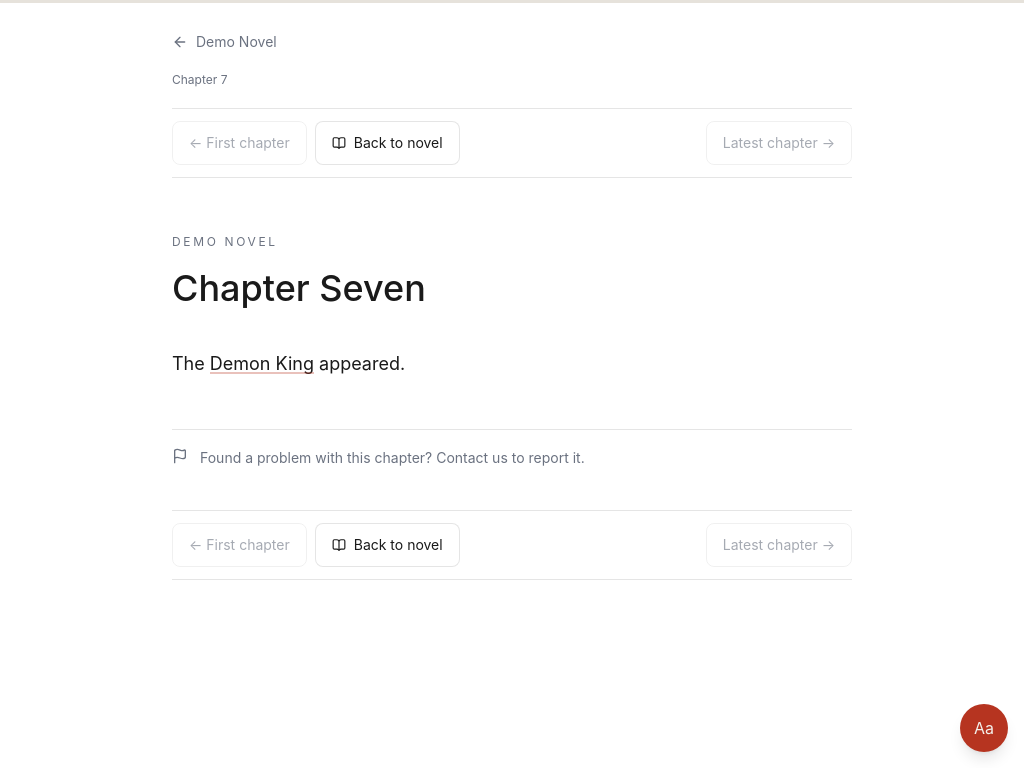
Test: Reader — data honesty › renders public glossary annotations inline with an accessible tooltip
Expected: the element with class "glossary-annotation-highlight" reads "Demon King", [210,353,314,374]
Focus the element with class "glossary-annotation-trigger" at point(262, 364), box [210,347,314,381]
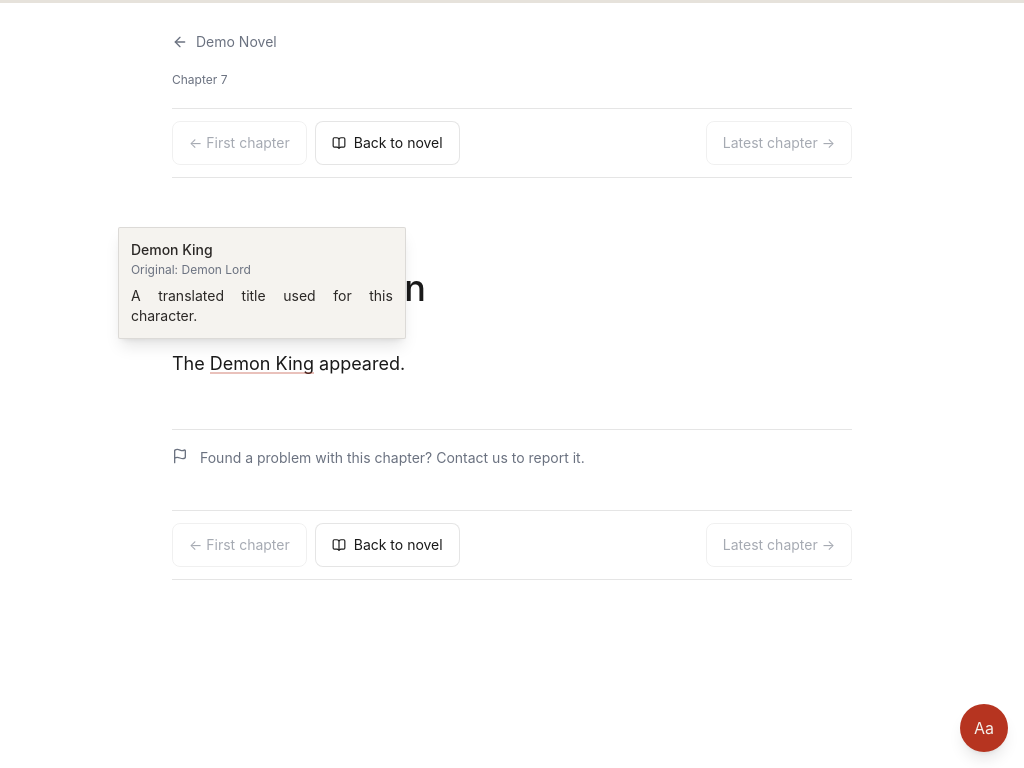
Result: the tooltip shows "Original: Demon Lord" at [118,227,406,339]
Result: the tooltip shows "A translated title used for this character." at [131,287,397,324]
